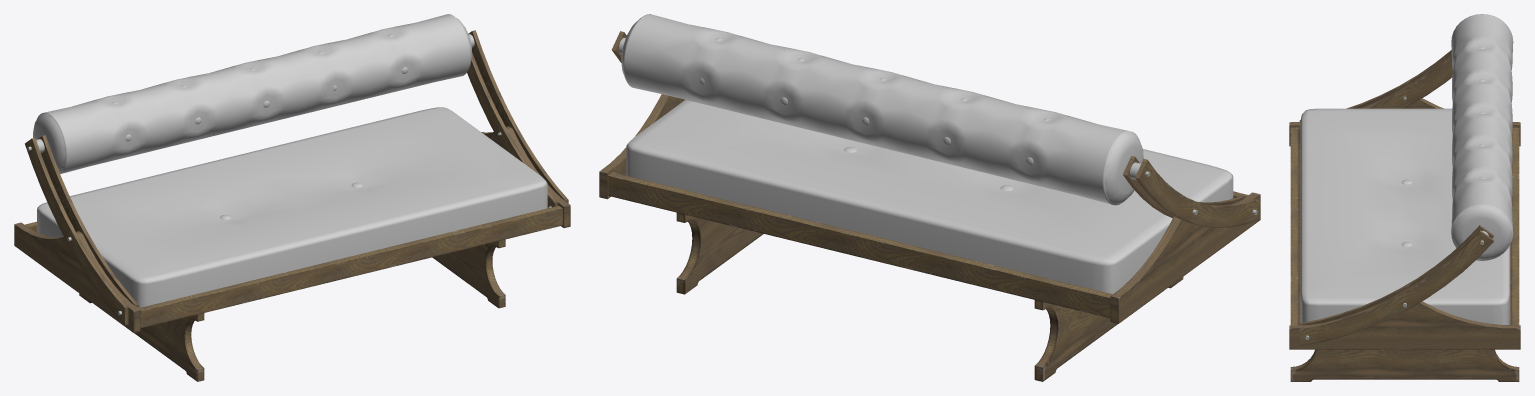
Rendered from SM_SofaB.fbx.
The picture shows the model from 3 angles, left to right: view 1: azimuth 30°, elevation 25°; view 2: azimuth 150°, elevation 25°; view 3: azimuth 270°, elevation 25°; orthographic projection. The views are drawn at different scales.
Visible parts, largest first — view 1: SM_SofaB_LOD0; view 2: SM_SofaB_LOD0; view 3: SM_SofaB_LOD0.
Part boxes in pixels (x1,y1,x2,y2): SM_SofaB_LOD0: [14, 14, 570, 381]; SM_SofaB_LOD0: [599, 14, 1260, 381]; SM_SofaB_LOD0: [1289, 14, 1520, 381].
Bounding box in the file's own units: 228 × 105 × 100.
